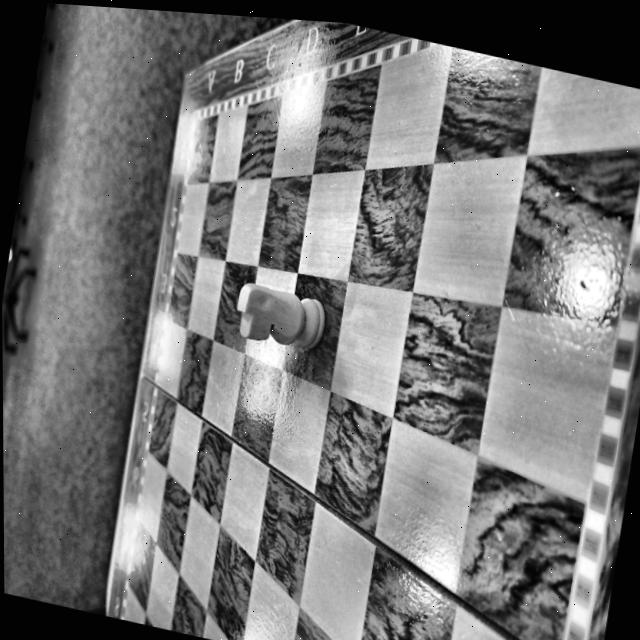white-knight: (235, 285, 324, 349)
